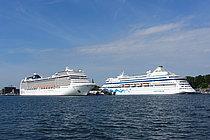Ship: (96, 64, 201, 102), (17, 66, 99, 99)
